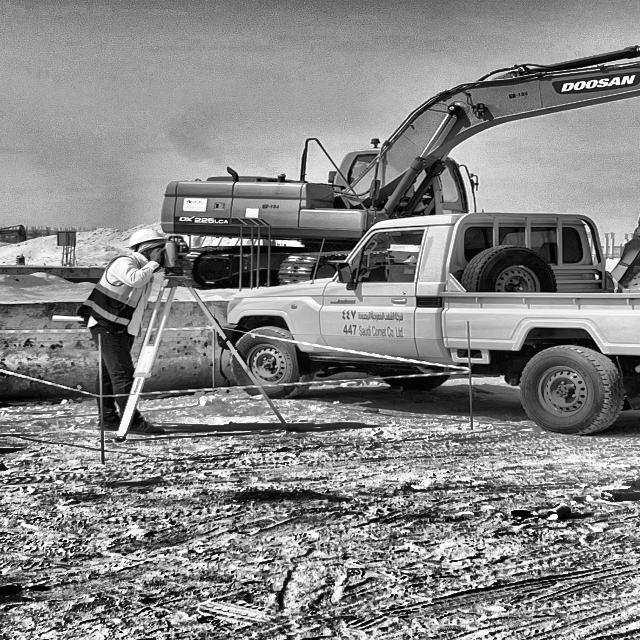excavator: (161, 16, 640, 281)
